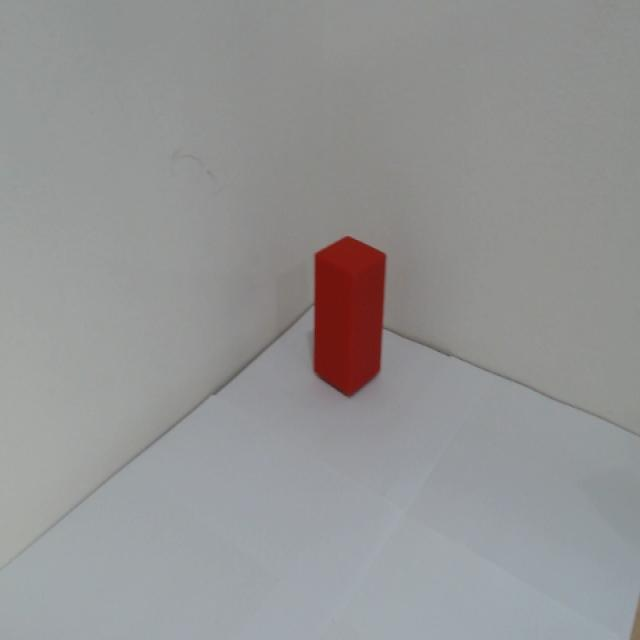cube: (308, 231, 389, 401)
